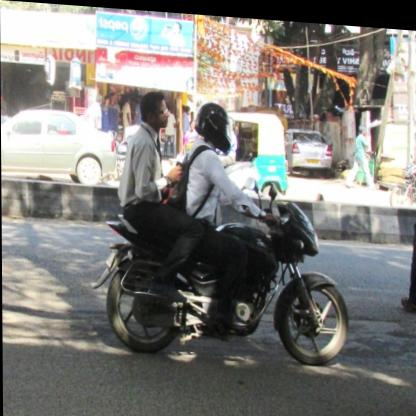With Helmet: (194, 97, 239, 153)
